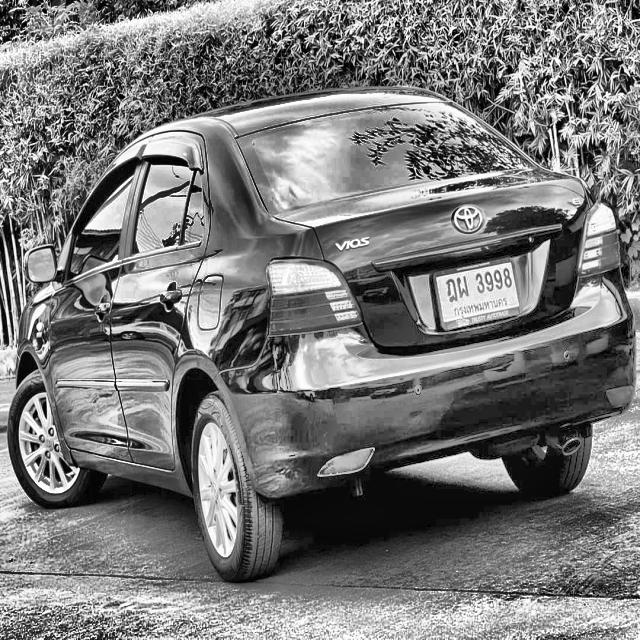license-plate: (427, 252, 527, 334)
